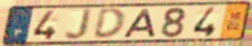4: (191, 5, 219, 38), (31, 9, 58, 41)
8: (160, 6, 189, 39)
A: (121, 8, 158, 39)
D: (91, 7, 127, 41)
J: (63, 7, 95, 42)
